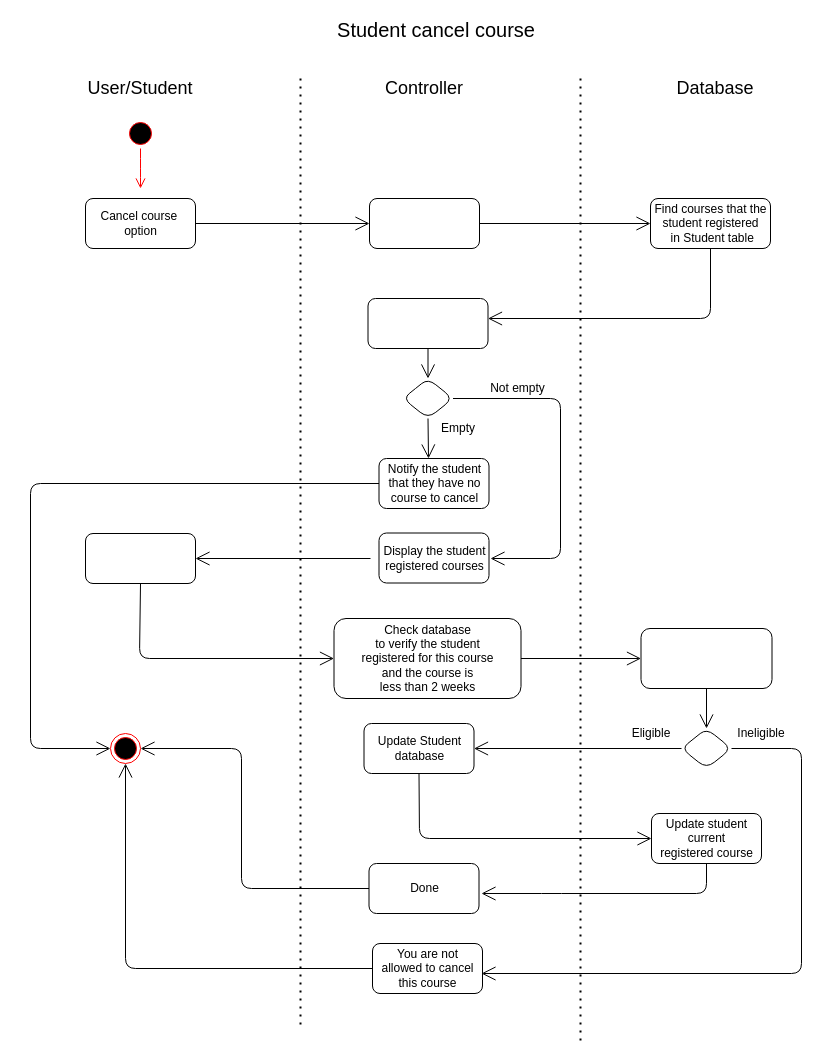
Image size: 833x1060. Some labels were removed from this diagram. Here are the shapes that lost their labels. From the top down, the centre of each, then its label:
At [424,223]: "Check database".
At [427,323]: "Check if this list list is empty or not".
At [140,558]: "Choose a course to cancel".
At [706,658]: "Verify the eligibility to cancel this course".
